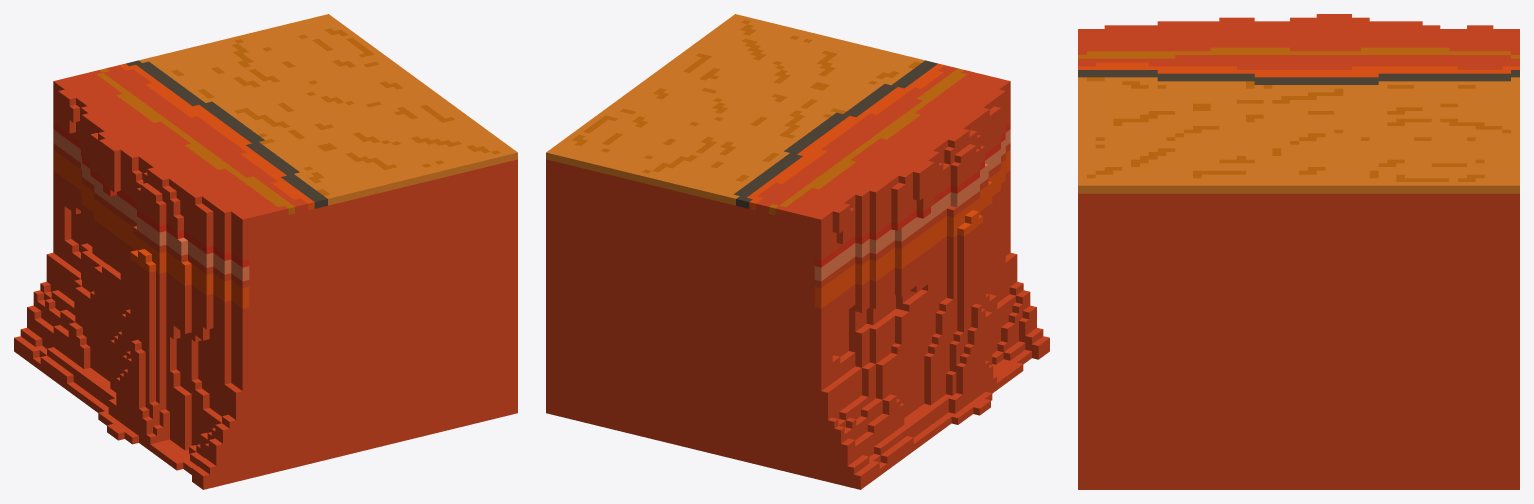
File: western2.obj
3 views of the same model, side by side, from view 1: azimuth 30°, elevation 25°; view 2: azimuth 150°, elevation 25°; view 3: azimuth 270°, elevation 25° (orthographic). The views are drawn at different scales.
Size of the model in its own units: 5 by 3.8 by 5.
1 material, 1 textured.
